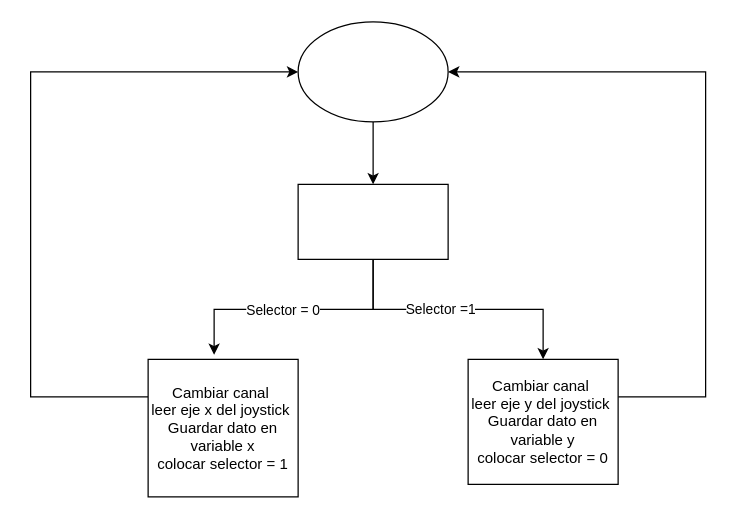
This 738x519 diagram has some shape labels left out. The shapes that lost their labels are listed below. From the top down, each one's centre as x and y in pixels, then its label:
At [372,71]: "Interrupción ADC".
At [372,221]: "Revidar selector del mux".
